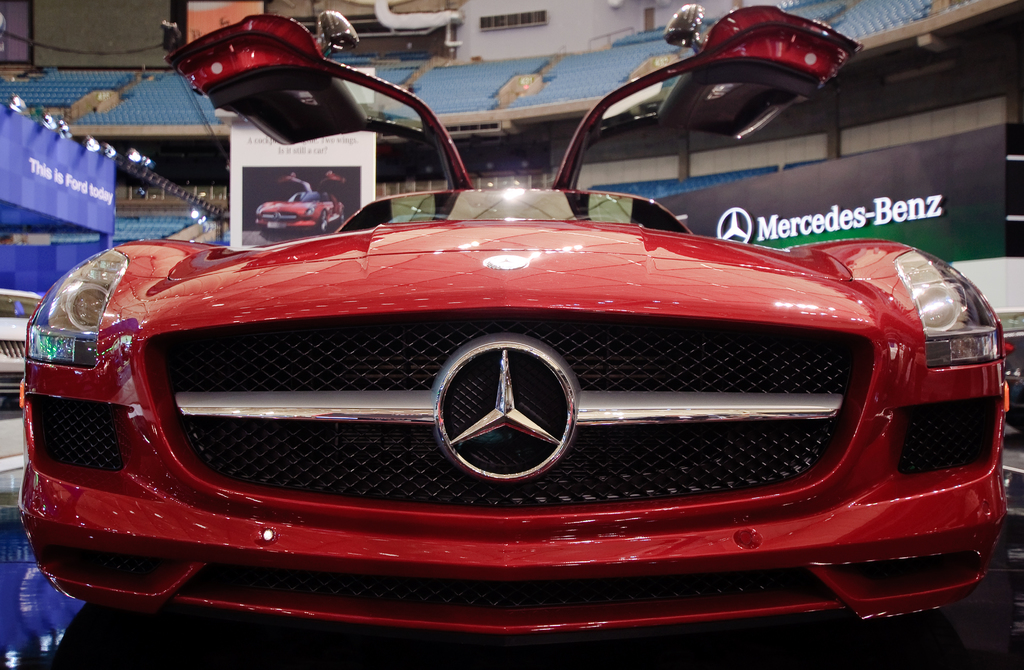car: (8, 4, 1007, 647), (251, 169, 353, 242)
